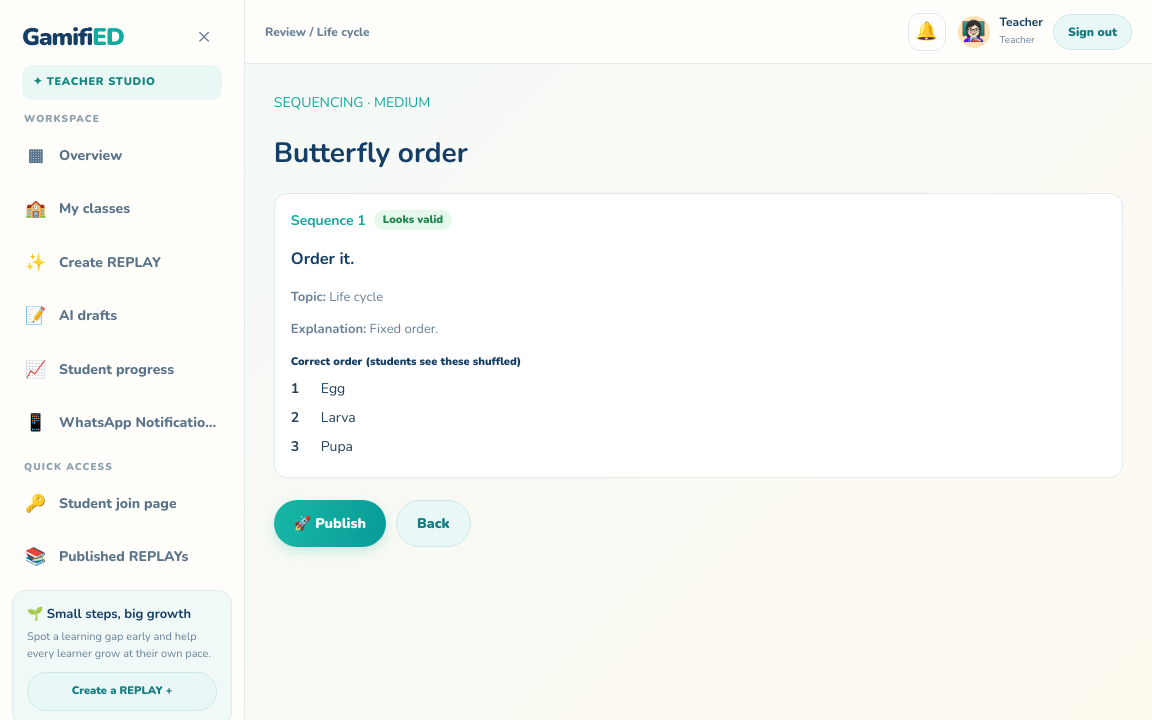
it: a failed publish shows the server message instead of a success notice
Click the button "🚀 Publish" at (330,524), box [274,500,386,547]
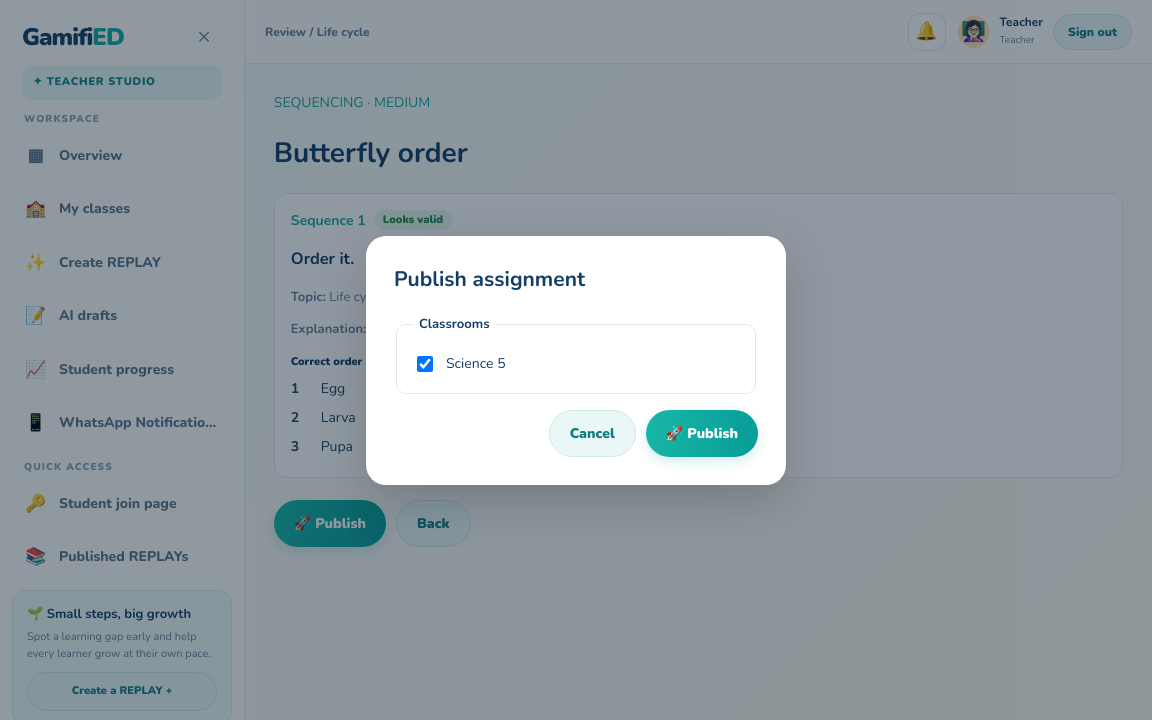
Expected: the checkbox labelled "Science 5" is checked, [417,356,433,372]
Click the button "🚀 Publish" at (702,433), box [646,410,758,456]
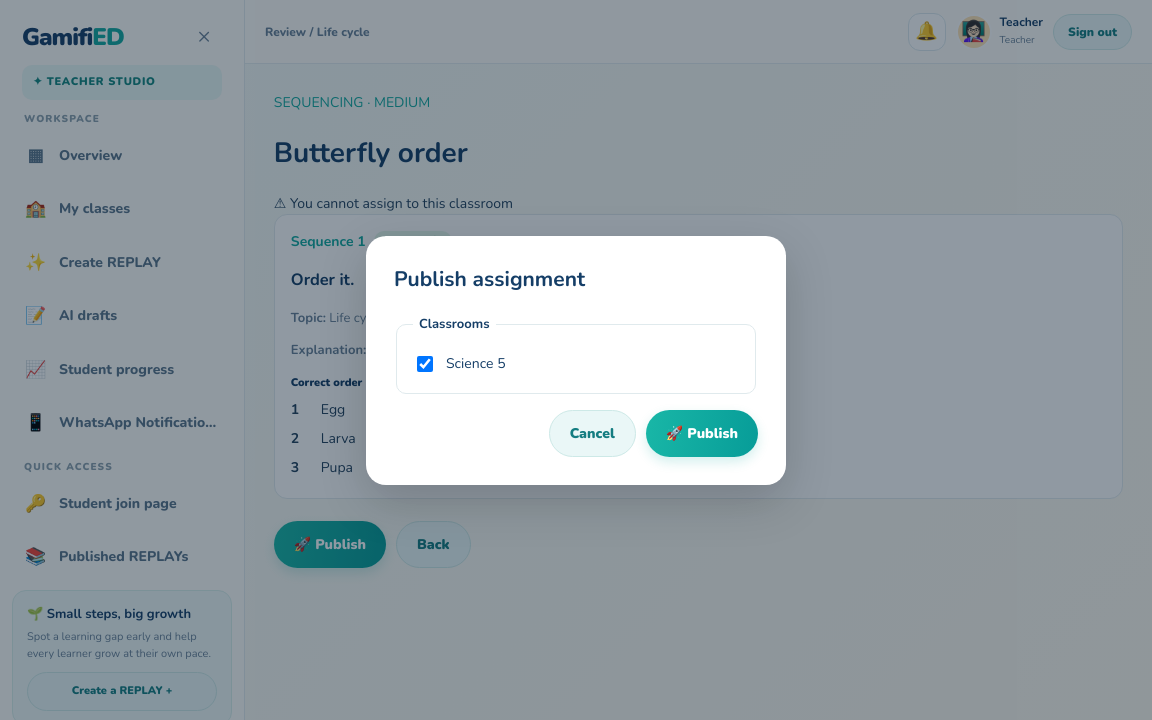
Expected: the text "⚠ You cannot assign to this classroom" is shown, [274,194,513,212]
